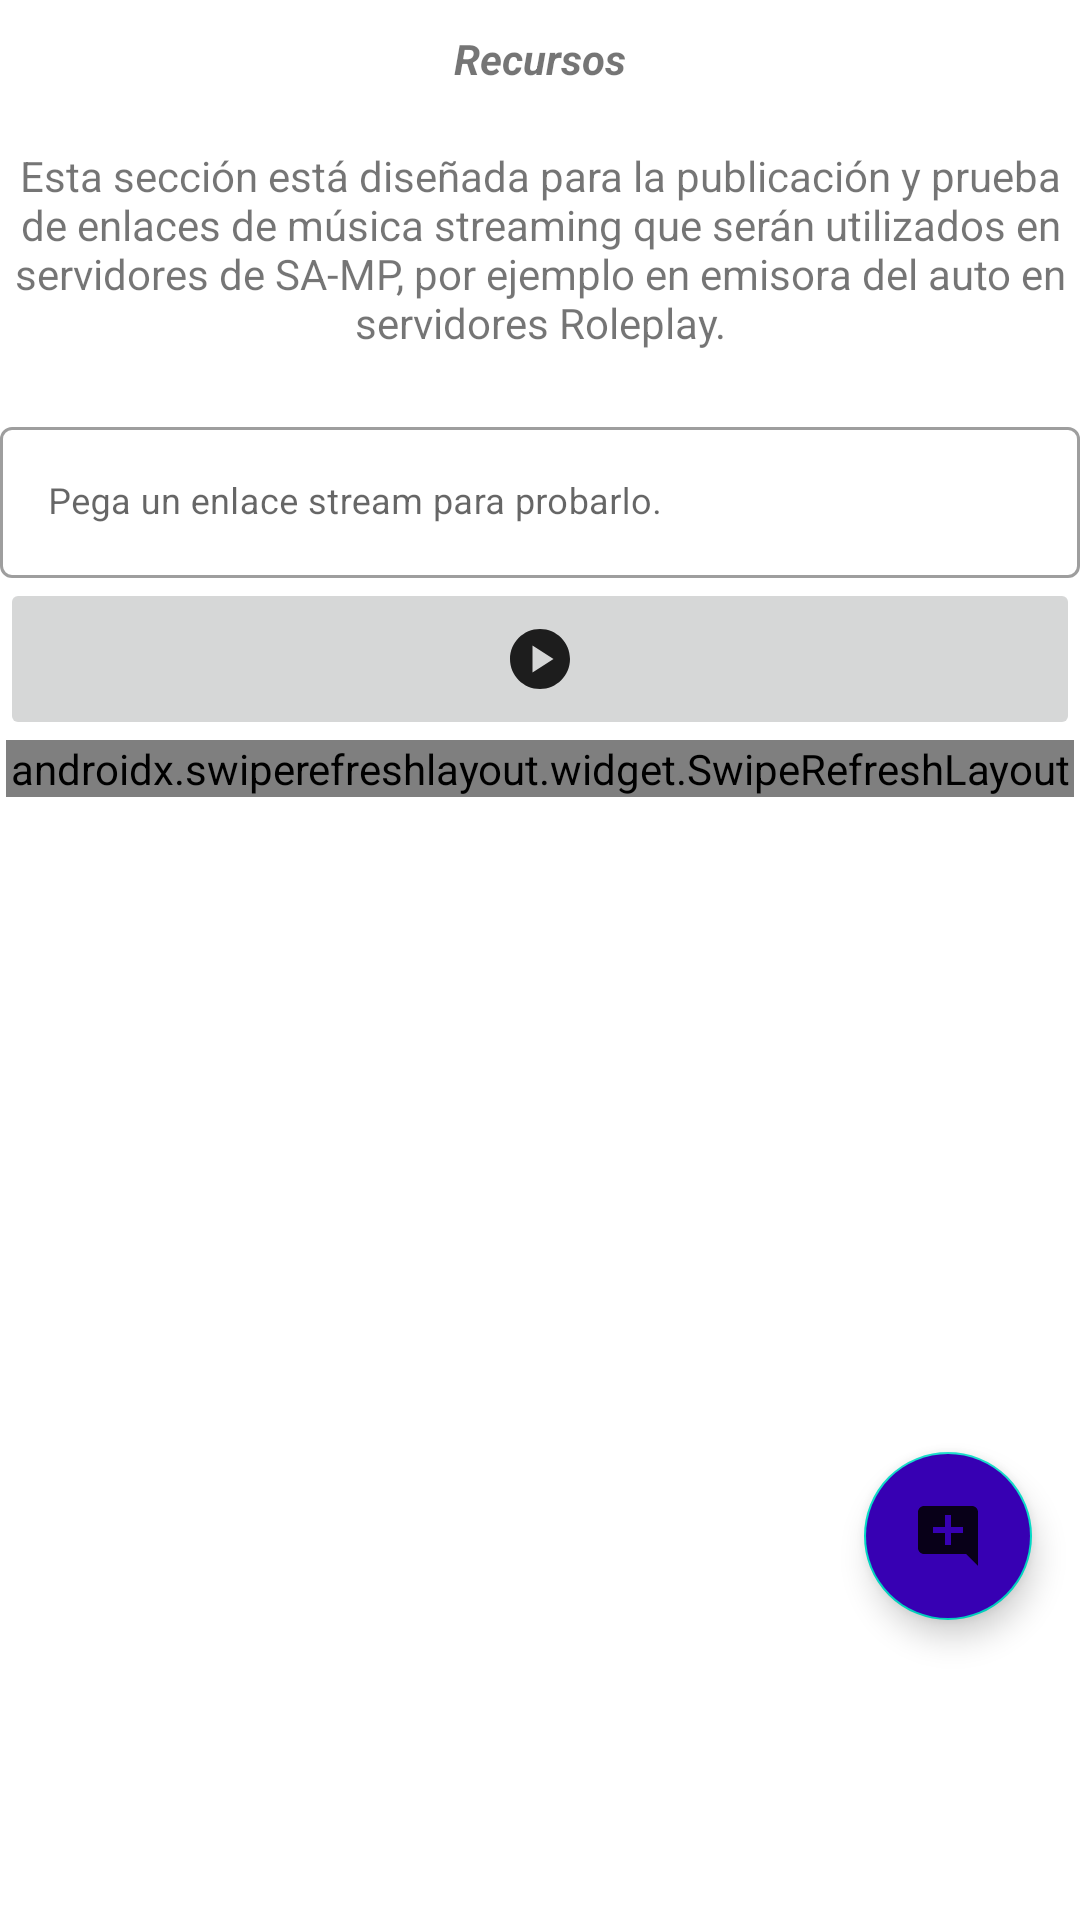

Icon click points for this 1080px×1920px phone screenshot, format (x,y):
Add Media Post Button: (948,1536)
